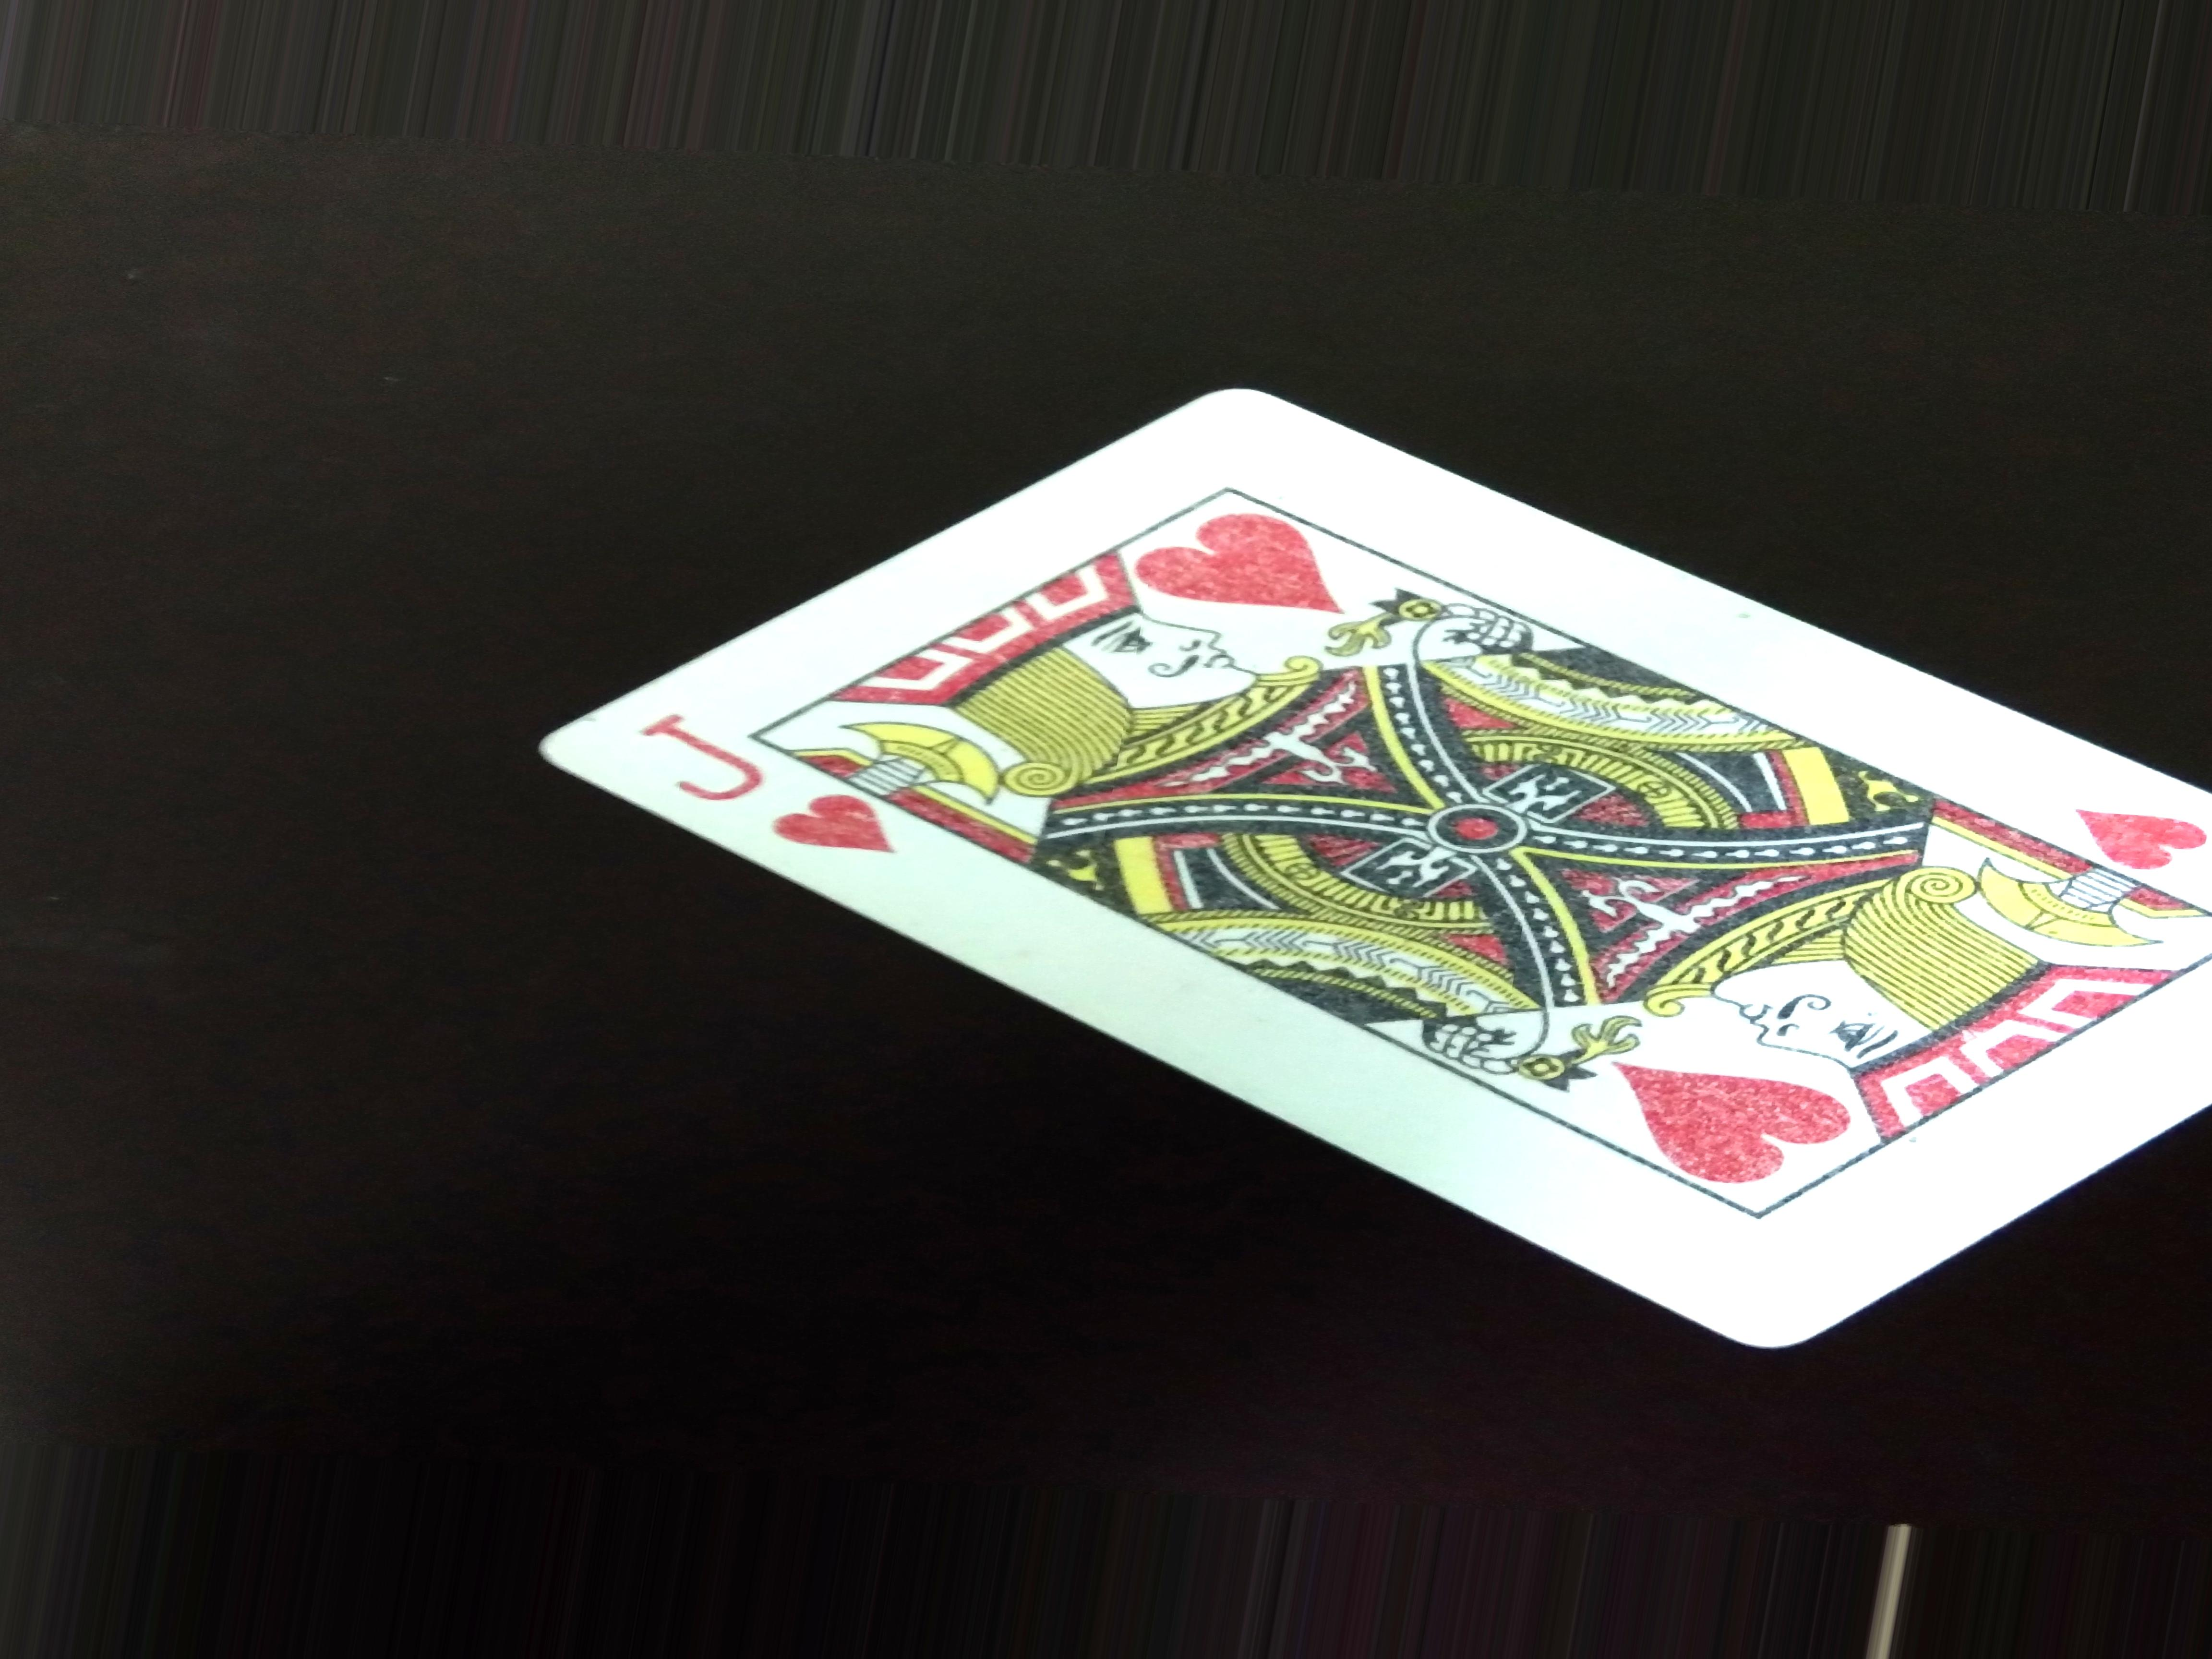JH: (631, 709, 880, 866)
